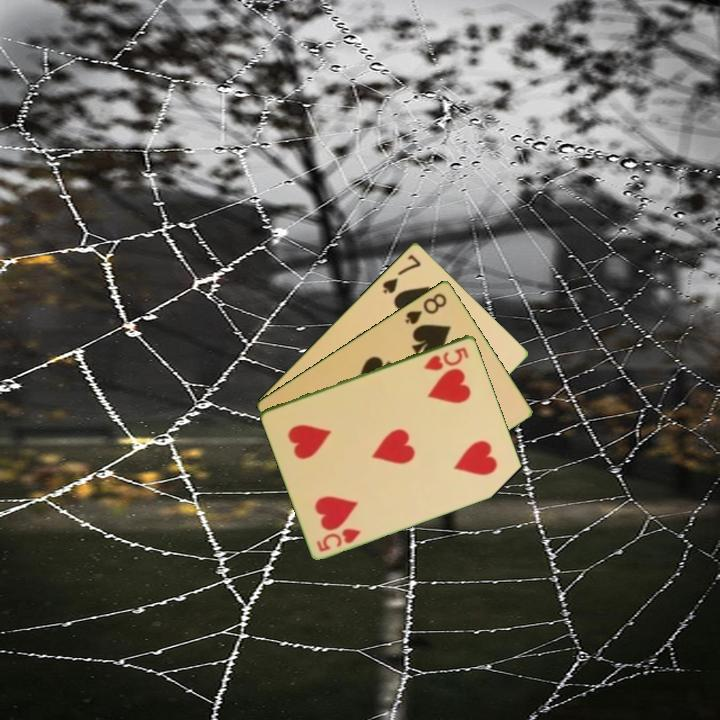5h: (420, 343, 472, 373), (313, 524, 364, 554)
7s: (379, 251, 424, 296)
8s: (401, 289, 450, 327)
